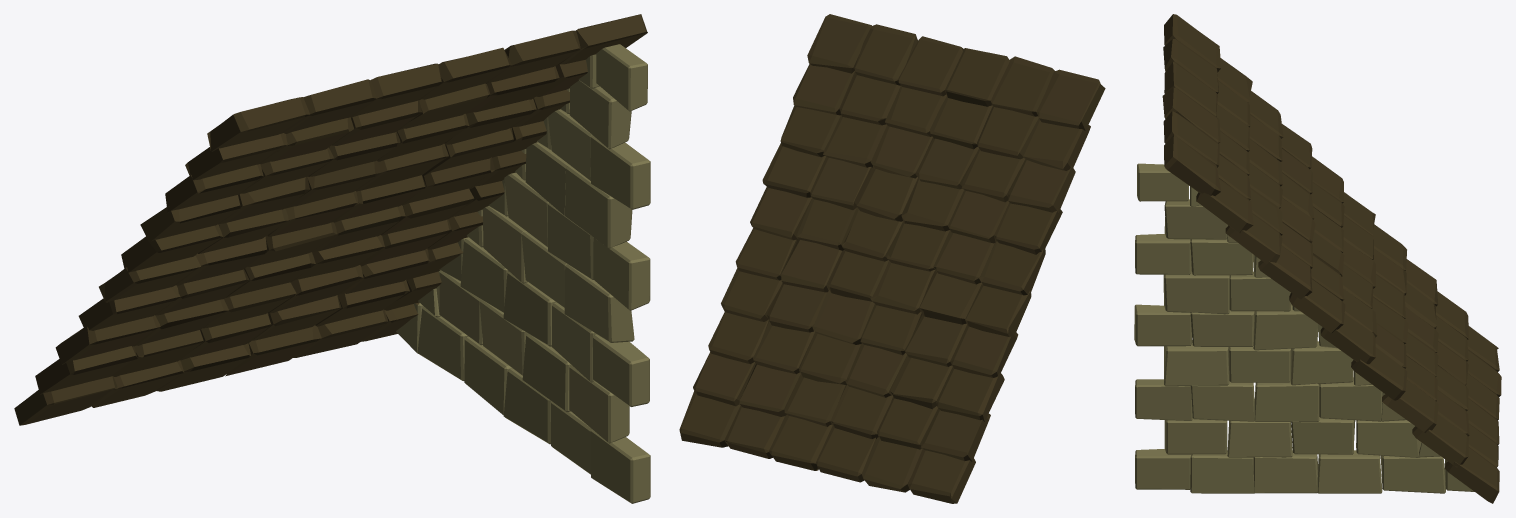
Rendered from BrickWall-Sandstone-Roof-Left.fbx.
3 views of the same model, side by side, from view 1: azimuth 30°, elevation 25°; view 2: azimuth 150°, elevation 25°; view 3: azimuth 270°, elevation 25° (orthographic). The views are drawn at different scales.
Parts seen in each view (by area): view 1: Cube.004, Stone Base wall.006; view 2: Cube.004; view 3: Stone Base wall.006, Cube.004.
Part boxes in pixels (x1,y1,x2,y2): Cube.004: (14,14,647,425); Stone Base wall.006: (396,44,650,503); Cube.004: (679,14,1105,503); Stone Base wall.006: (1134,163,1474,493); Cube.004: (1162,14,1501,503).
Bounding box in the file's own units: 883 × 973 × 928.
